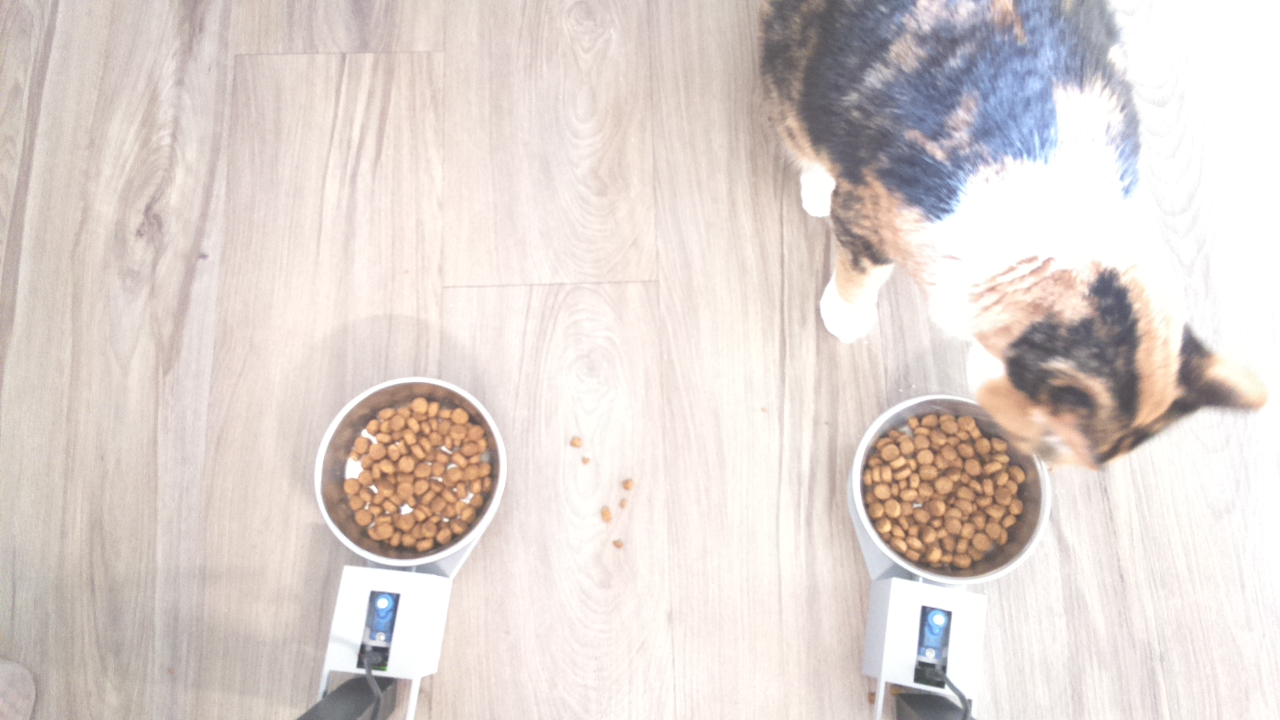bella: (955, 241, 1266, 473)
open_bowl: (311, 372, 509, 571), (849, 392, 1049, 584)
